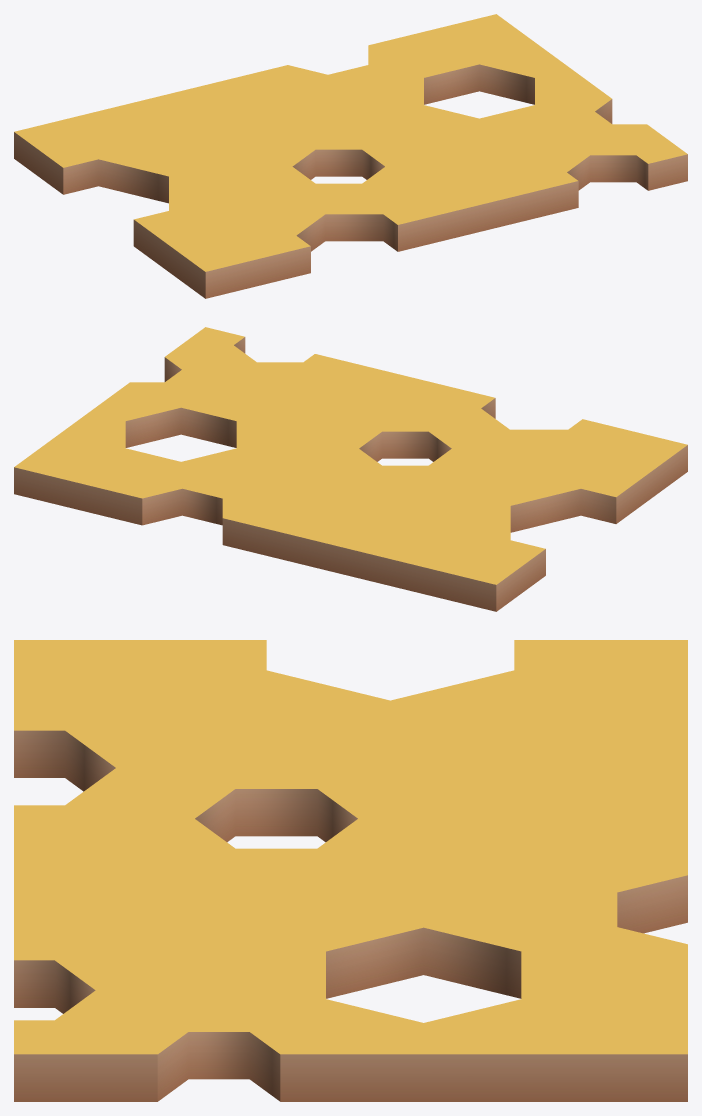
The model's file is cheese-cut.glb.
3 renders of one model, top to bottom at view 1: azimuth 30°, elevation 25°; view 2: azimuth 150°, elevation 25°; view 3: azimuth 270°, elevation 25°, orthographic. The views are drawn at different scales.
Parts seen in each view (by area): view 1: cheese-cut; view 2: cheese-cut; view 3: cheese-cut.
Part boxes in pixels (x1,y1,x2,y2): cheese-cut: (14, 14, 687, 298); cheese-cut: (14, 327, 687, 611); cheese-cut: (14, 640, 687, 1101).
Bounding box in the file's own units: 0.384 × 0.0205 × 0.264.
Materials: 1 (1 with a texture image).
